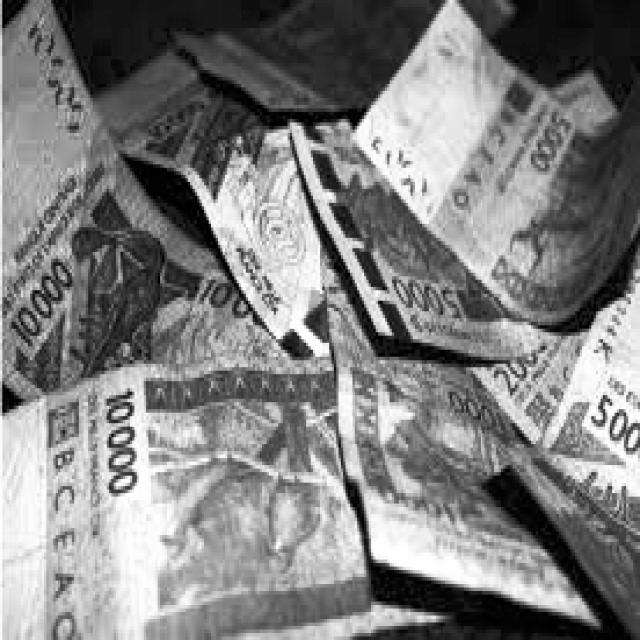junni: (355, 4, 640, 325), (291, 127, 555, 361), (514, 249, 640, 634)
niaar junni: (2, 0, 285, 399), (1, 362, 370, 638), (96, 55, 325, 353), (178, 0, 441, 116)
niaar teemeer: (325, 269, 599, 629)
nient teemeer: (470, 334, 584, 443)
